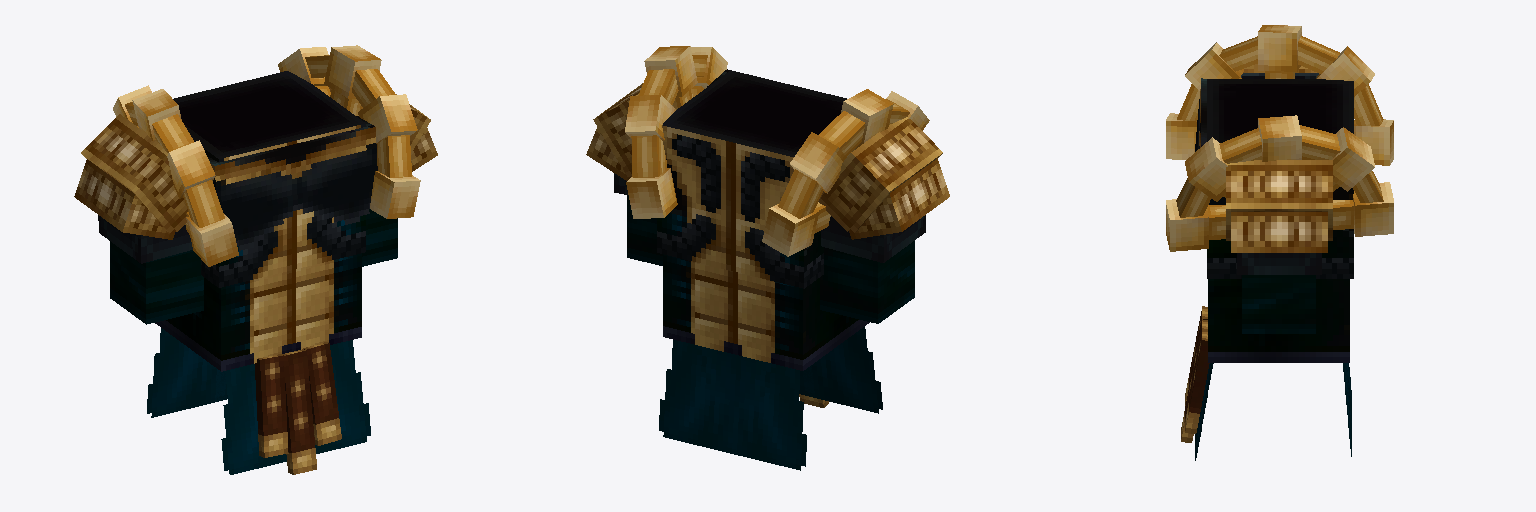
3 renders of one model, left to right at view 1: azimuth 30°, elevation 25°; view 2: azimuth 150°, elevation 25°; view 3: azimuth 270°, elevation 25°, orthographic.
Parts seen in each view (by area): view 1: cube, ChestPlate, Belt, FrontPlate, Side, RPauldron2, Front_Cloth_1, Sleeve, RSleeve; view 2: ChestPlate, Side, cube, Belt, RPauldron2, Sleeve, RSleeve; view 3: cube, ChestPlate, RPauldron2, Belt, Sleeve, RSleeve, Front_Cloth_1, Side, FrontPlate.
Part boxes in pixels (x1,y1,x2,y2): cube: (113,45,420,266); ChestPlate: (173,71,365,287); Belt: (155,253,361,371); FrontPlate: (207,116,377,250); Side: (147,328,370,474); RPauldron2: (74,87,437,239); Front_Cloth_1: (255,342,341,474); Sleeve: (110,209,397,324); RSleeve: (98,116,358,263); ChestPlate: (657,70,846,288); Side: (659,326,882,470); cube: (625,46,929,256); Belt: (663,254,869,370); RPauldron2: (586,83,949,239); Sleeve: (627,195,914,323); RSleeve: (614,173,925,262); cube: (1166,25,1393,251); ChestPlate: (1207,79,1353,278); RPauldron2: (1226,64,1332,252); Belt: (1208,279,1349,362); Sleeve: (1242,275,1315,333); RSleeve: (1237,73,1321,274); Front_Cloth_1: (1181,306,1209,442); Side: (1195,363,1351,460); FrontPlate: (1195,78,1225,204).
Size of the model in its own units: 4.03 by 4.43 by 2.53.
1 materials, 1 textured.